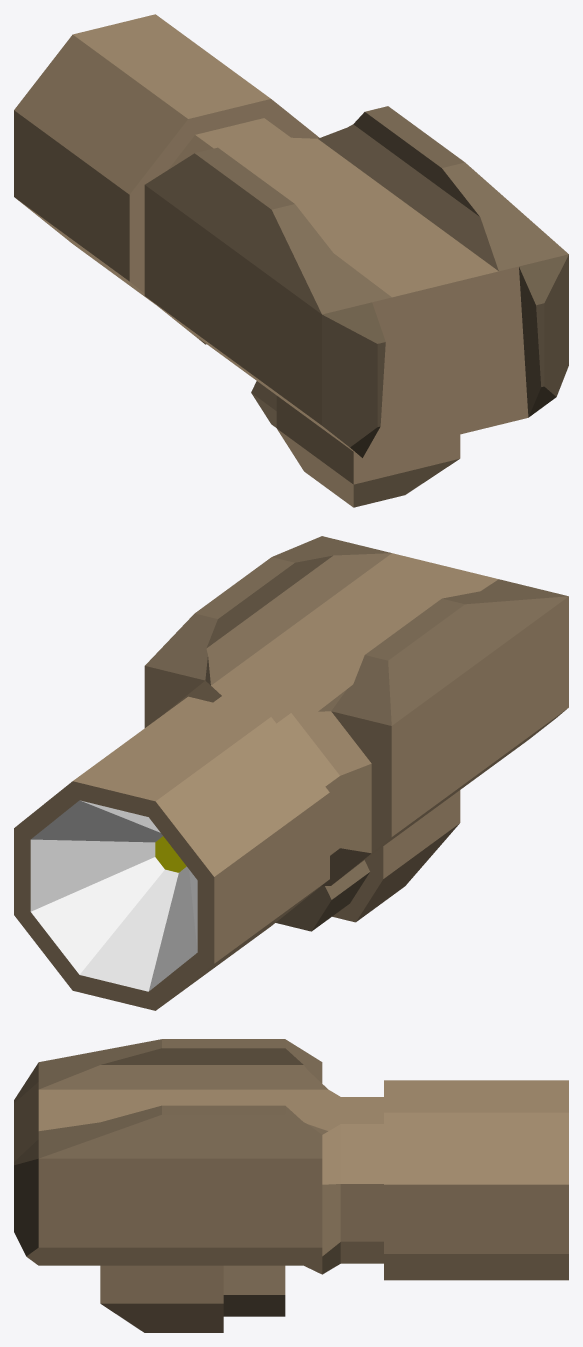
File: x400_red_white.glb
3 renders of one model, top to bottom at view 1: azimuth 30°, elevation 25°; view 2: azimuth 150°, elevation 25°; view 3: azimuth 270°, elevation 25°, orthographic. The views are drawn at different scales.
Parts seen in each view (by area): view 1: X400Body; view 2: X400Body; view 3: X400Body.
Part boxes in pixels (x1=…): X400Body: x1=14, y1=14, x2=568, y2=507; X400Body: x1=14, y1=536, x2=568, y2=1010; X400Body: x1=14, y1=1039, x2=568, y2=1332.
Bounding box in the file's own units: 0.037 × 0.044 × 0.09.
1 material, 1 textured.
